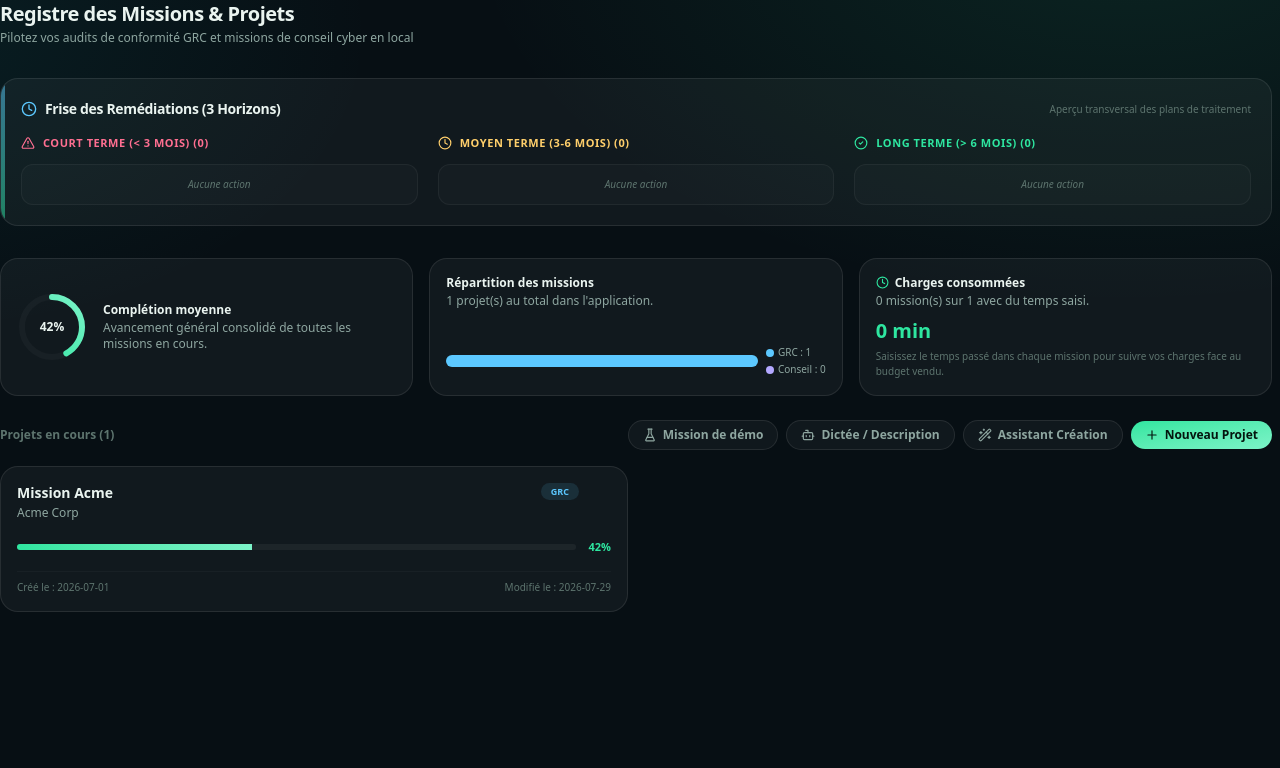
Test: Projects — caractérisation avant découpage › phase 2 — affiche le registre RGPD
Step 1. Click the heading "Mission Acme" → (65, 492), box [17,482,113,502]
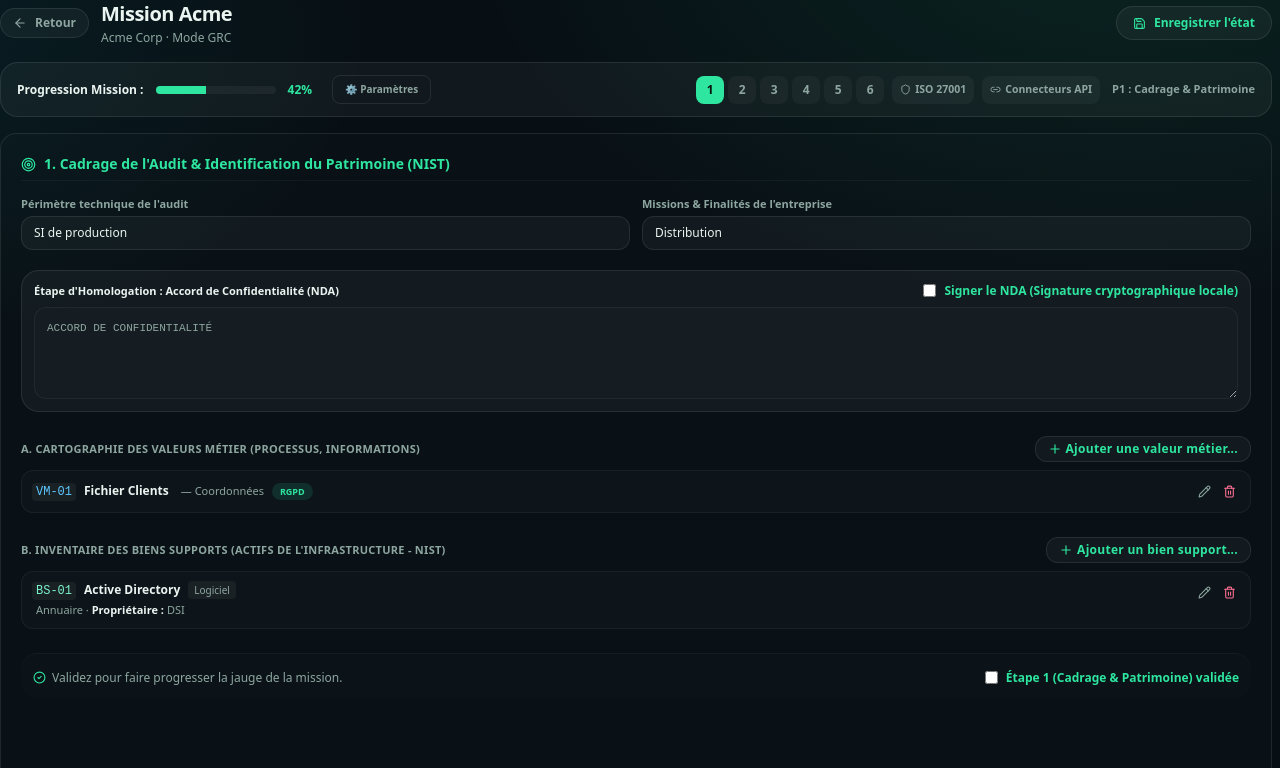
Now the text "Progression Mission :" is shown, box [17,82,144,98]
Step 2. Click the button "2" → (742, 90), box [728,76,756,104]
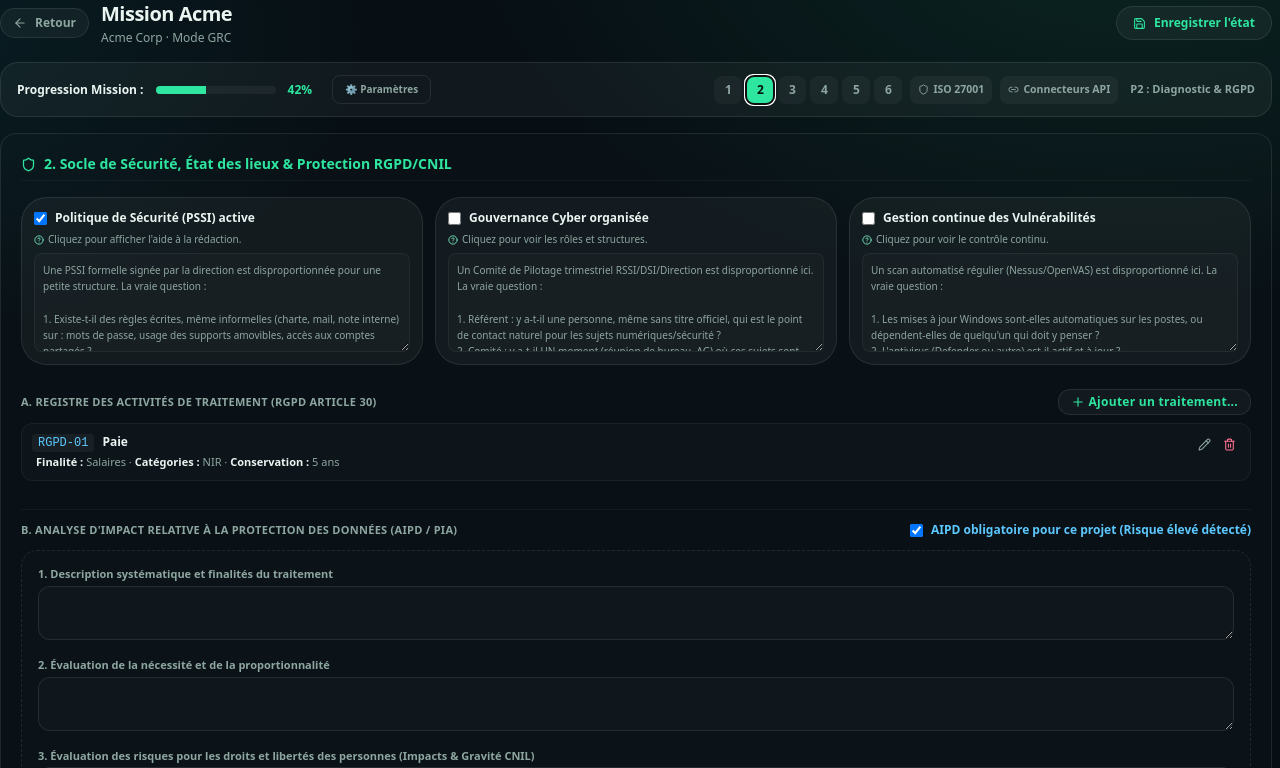
Now the text "Paie" is shown, box [102,433,128,450]
Now the text "RGPD-01" is shown, box [32,434,94,452]
